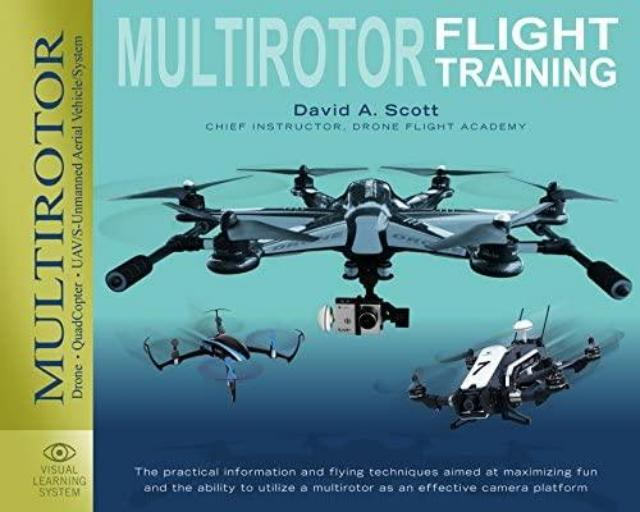drone: (100, 162, 638, 312), (396, 320, 614, 430), (137, 309, 310, 397)
